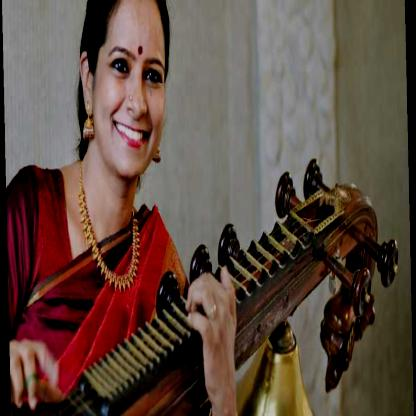Veena: (80, 183, 369, 388)
